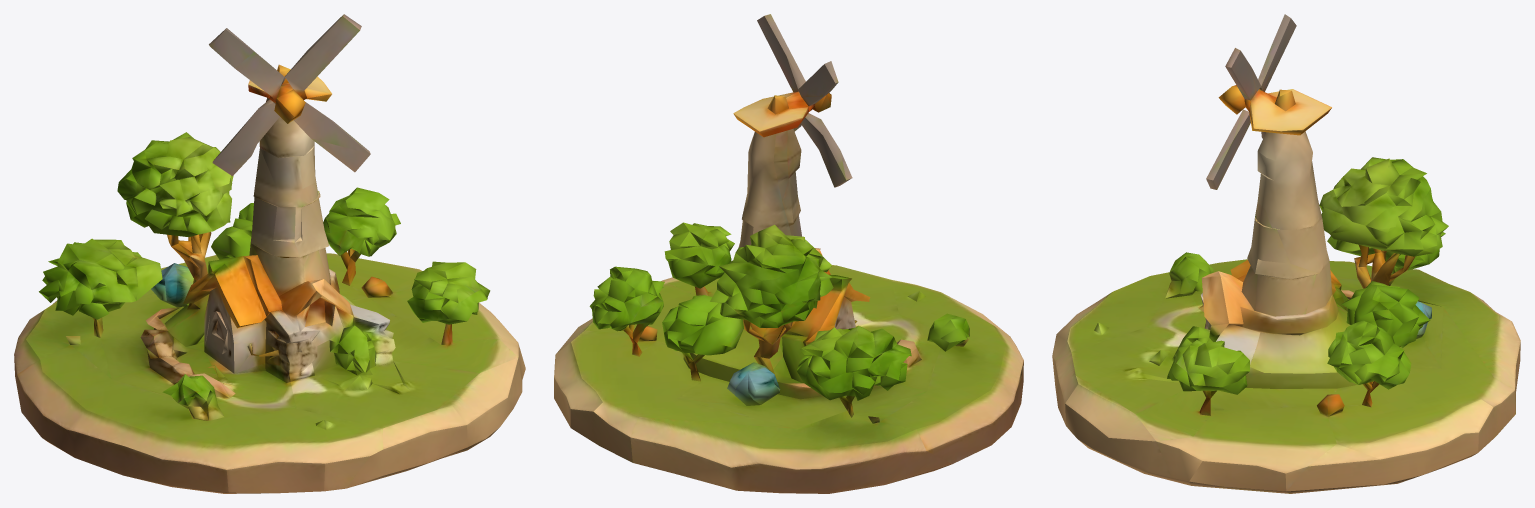
The model's file is m2WindmillIsland.glb.
3 renders of one model, left to right at view 1: azimuth 30°, elevation 25°; view 2: azimuth 150°, elevation 25°; view 3: azimuth 270°, elevation 25°, orthographic. The views are drawn at different scales.
Visible parts, largest first — view 1: model; view 2: model; view 3: model.
Part boxes in pixels (x1,y1,x2,y2): model: (14,14,525,493); model: (554,14,1023,493); model: (1052,14,1520,493).
Size of the model in its own units: 1.9 by 1.57 by 1.81.
Materials: 1 (1 with a texture image).
